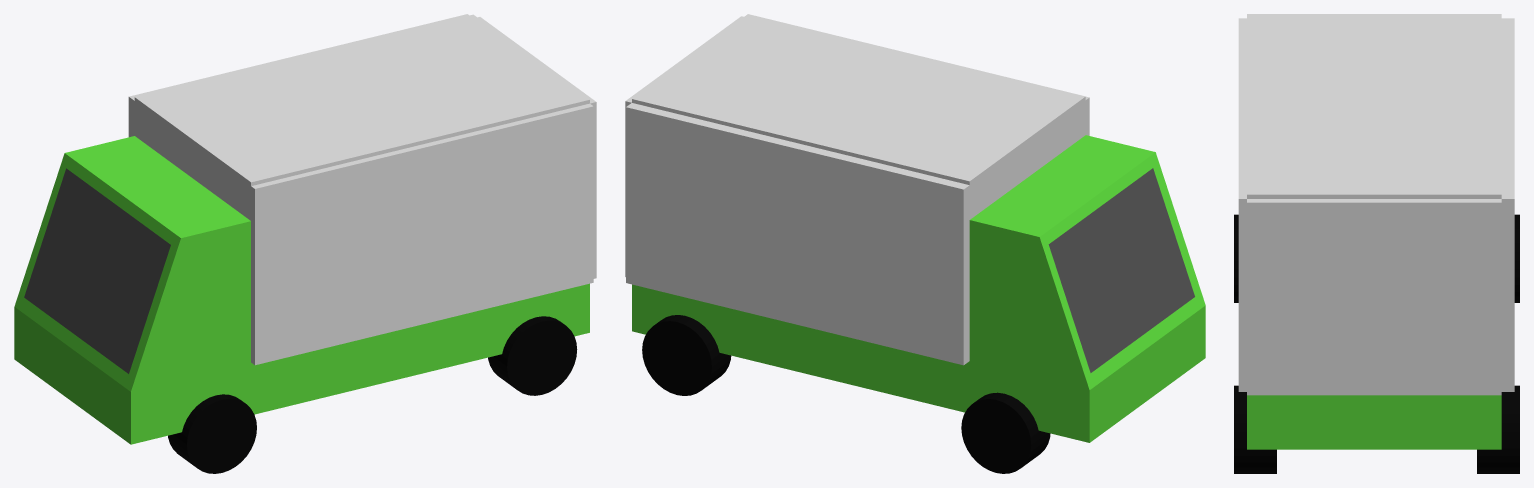
Rendered from ToyTruck.fbx.
3 renders of one model, left to right at view 1: azimuth 30°, elevation 25°; view 2: azimuth 150°, elevation 25°; view 3: azimuth 270°, elevation 25°, orthographic. The views are drawn at different scales.
Visible parts, largest first — view 1: Cube, Cylinder.002, Cylinder; view 2: Cube, Cylinder.001, Cylinder.003; view 3: Cube, Cylinder.003, Cylinder.002, Cylinder.001, Cylinder.
Part boxes in pixels (box(x1,y1,x2,y2)): Cube: box(14, 14, 596, 444); Cylinder.002: box(488, 316, 577, 395); Cylinder: box(168, 394, 256, 473); Cube: box(625, 14, 1205, 442); Cylinder.001: box(961, 392, 1050, 473); Cylinder.003: box(642, 315, 731, 395); Cube: box(1238, 14, 1514, 449); Cylinder.003: box(1477, 385, 1519, 473); Cylinder.002: box(1234, 385, 1276, 473); Cylinder.001: box(1514, 214, 1519, 302); Cylinder: box(1234, 214, 1238, 302).
Bounding box in the file's own units: 1328 × 757 × 646.
